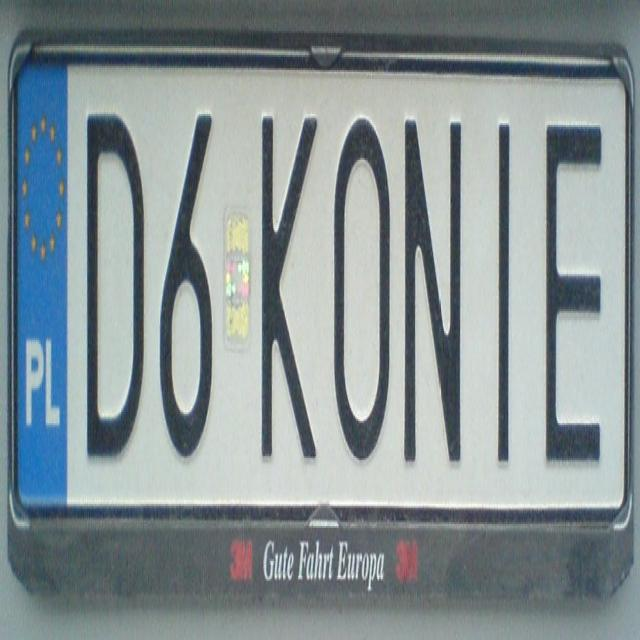pl_license_plate: (17, 62, 623, 508)
